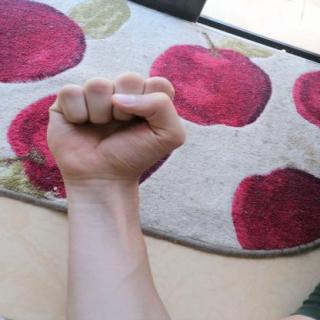SAD: (31, 65, 197, 189)
